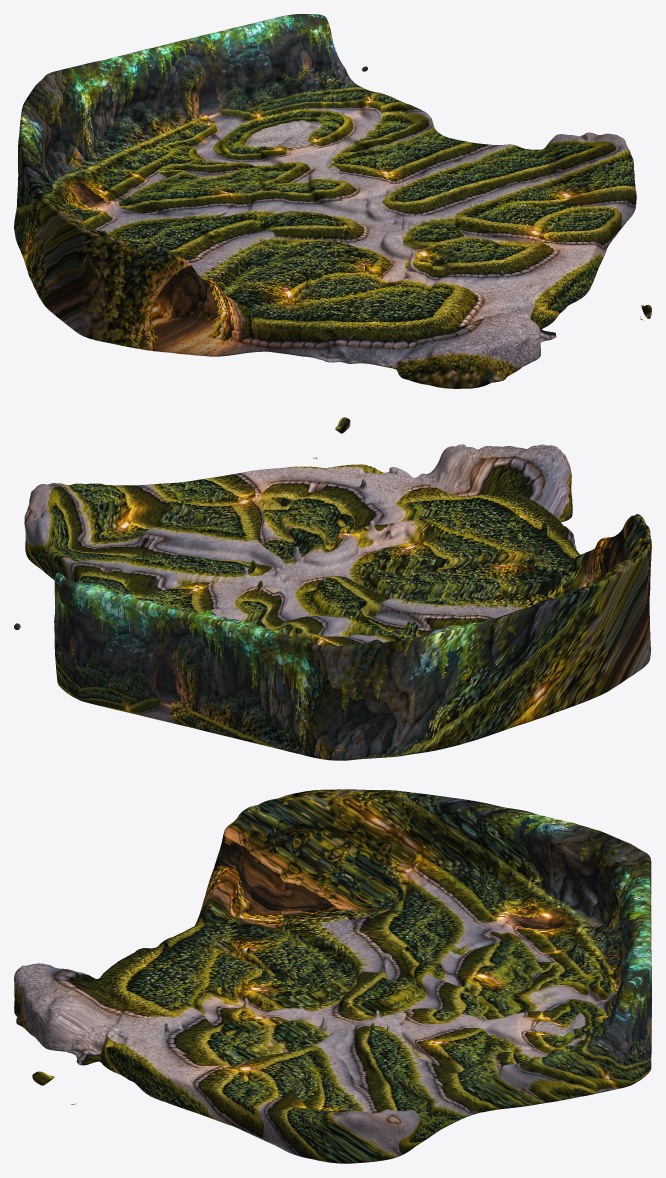
File: garden-shell.glb
3 renders of one model, top to bottom at view 1: azimuth 30°, elevation 25°; view 2: azimuth 150°, elevation 25°; view 3: azimuth 270°, elevation 25°, orthographic. The views are drawn at different scales.
Visible parts, largest first — view 1: garden-shell - original generated mesh; view 2: garden-shell - original generated mesh; view 3: garden-shell - original generated mesh.
Part boxes in pixels (bbox=[...]): garden-shell - original generated mesh: bbox=[14, 14, 651, 388]; garden-shell - original generated mesh: bbox=[14, 417, 651, 760]; garden-shell - original generated mesh: bbox=[14, 789, 651, 1163].
Bounding box in the file's own units: 30 × 5.55 × 29.84.
Materials: 1 (1 with a texture image).
